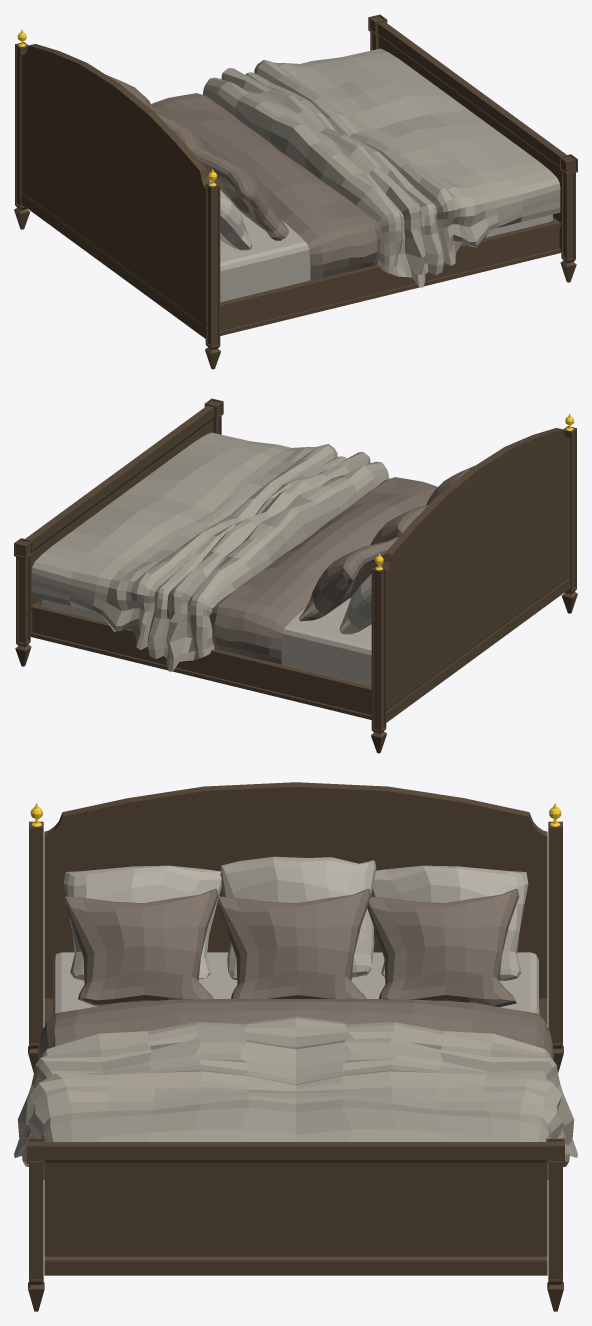
File: SM_Bed_01.glb
3 views of the same model, one above another, from view 1: azimuth 30°, elevation 25°; view 2: azimuth 150°, elevation 25°; view 3: azimuth 270°, elevation 25° (orthographic). The views are drawn at different scales.
Parts seen in each view (by area): view 1: SM_Bed_01; view 2: SM_Bed_01; view 3: SM_Bed_01.
Boxes of the visible parts, box(x1,y1,x2,y2) form: SM_Bed_01: box(14, 14, 577, 369); SM_Bed_01: box(14, 398, 577, 753); SM_Bed_01: box(14, 782, 577, 1311).
Bounding box in the file's own units: 2.85 × 1.59 × 2.79.
Materials: 1 (1 with a texture image).
